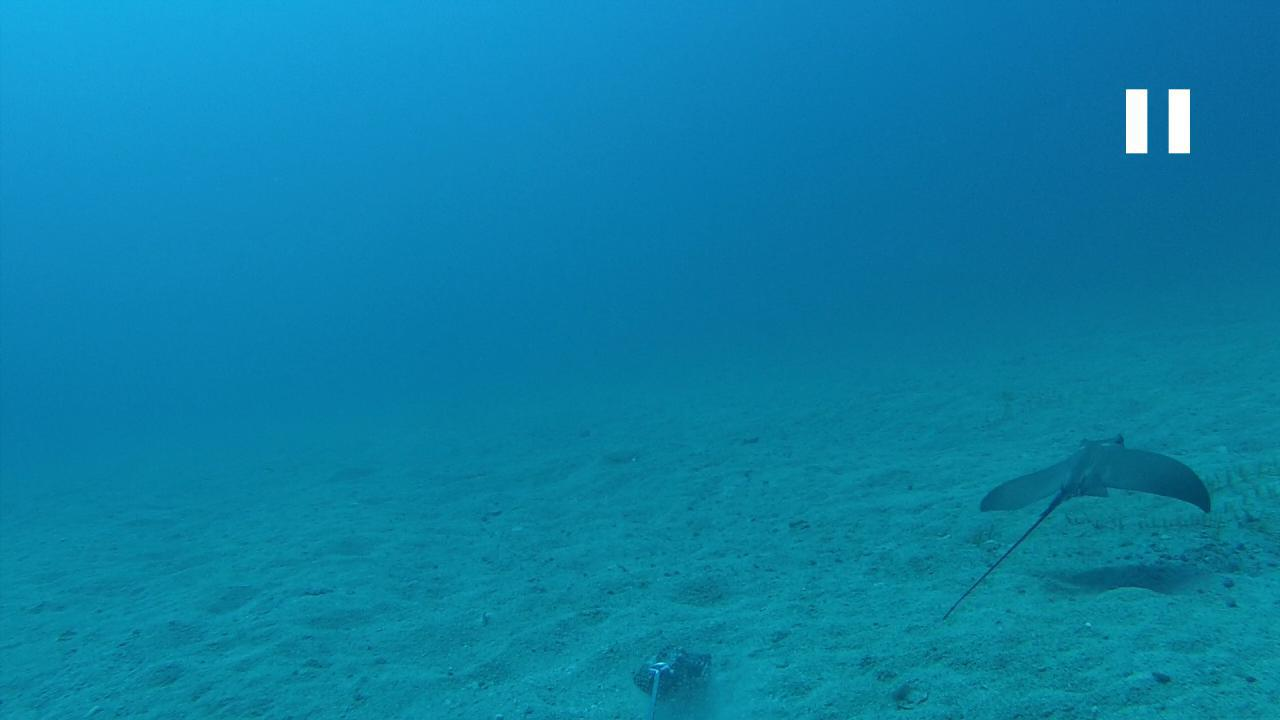dasyatis: (939, 432, 1214, 617)
